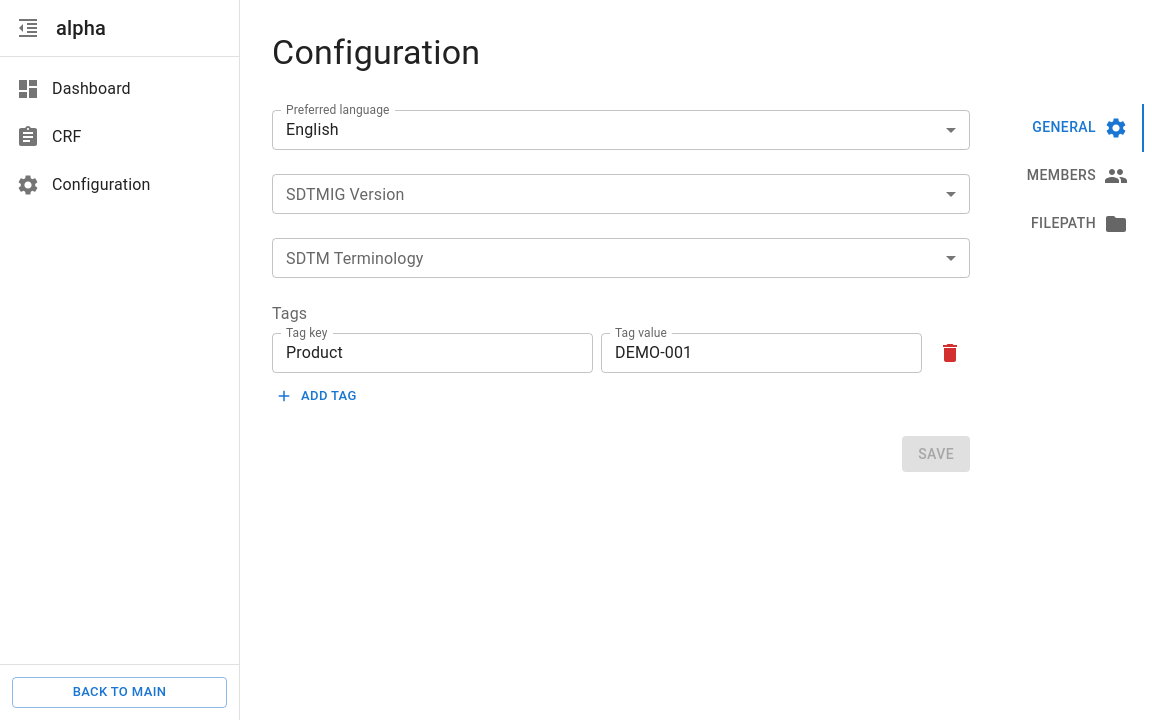
ProjectConfigurationPage — leader view › renders an '(unspecified)' item as the first option
# Open the Select to render the MenuItem children into the DOM.
Step 1. Click the dropdown named "sdtmig version" next to "SDTMIG Version" → (621, 194), box [272,174,970,214]
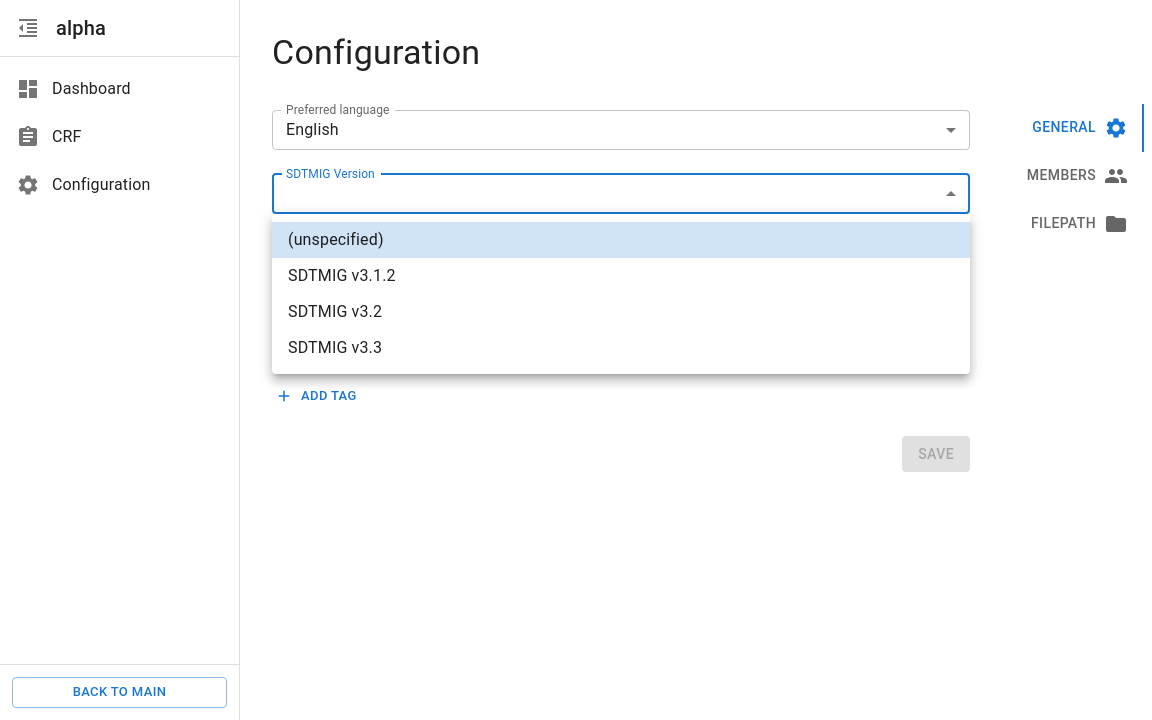
Now the option "(unspecified)" is shown, box [272,222,970,258]
